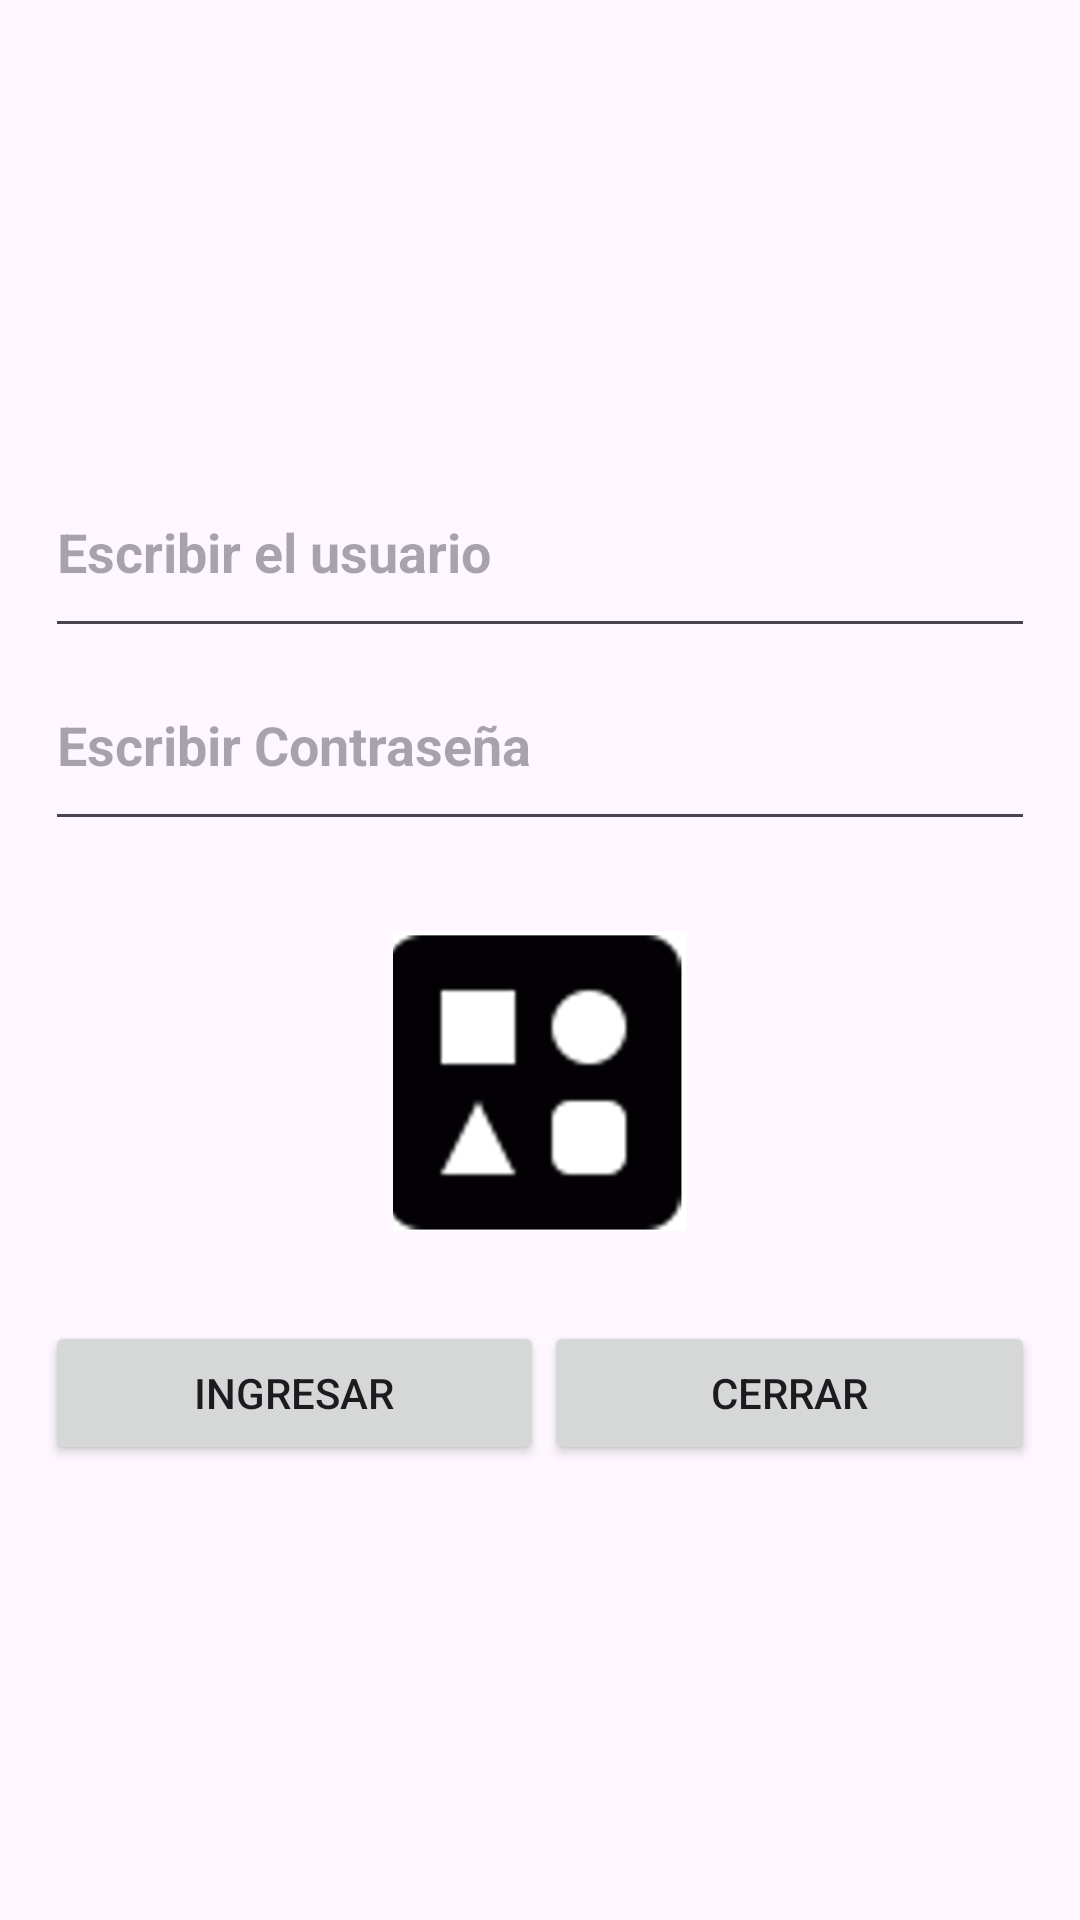

Icons on this 1080 × 1920 Android screen, each with the point to tap as (x=x, y=y):
figuras: (x=537, y=1082)
